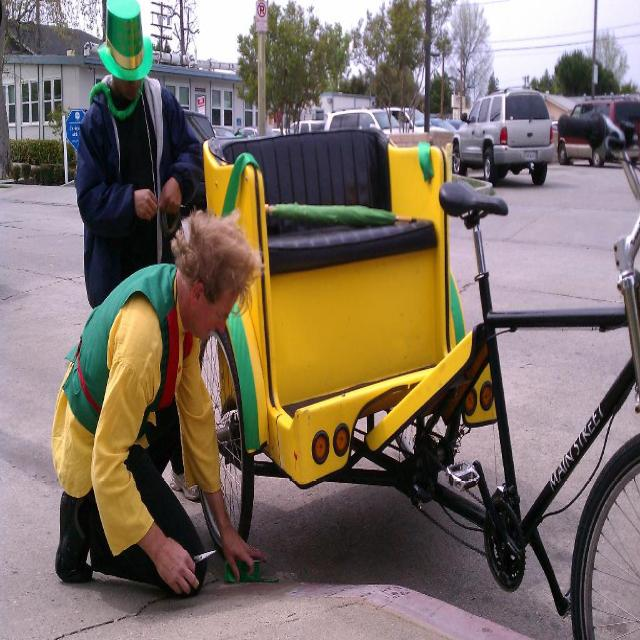Hat: (98, 0, 153, 85)
